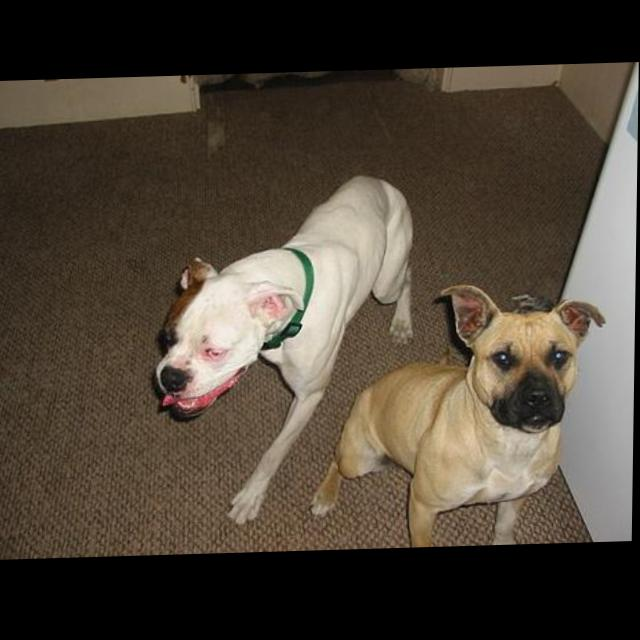amstaff: (154, 174, 419, 529), (312, 283, 610, 553)
